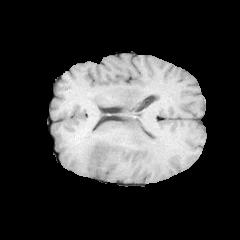glioma: (62, 99, 163, 178)
